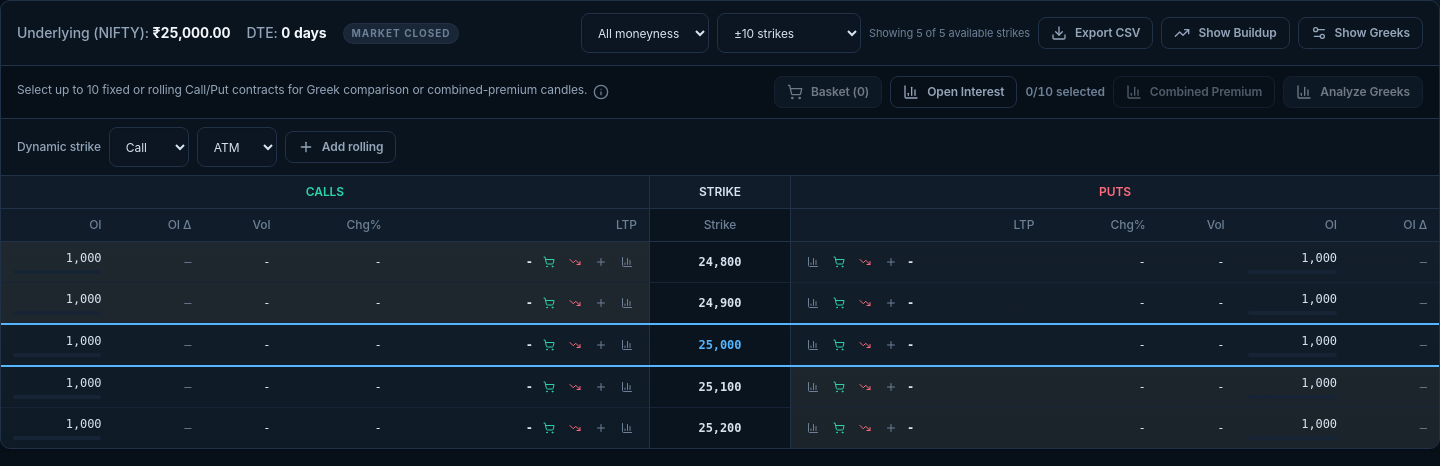
OptionChain — Greek/analysis selection › selecting a contract for analysis updates the selection counter and enables the analysis buttons
Expected: the text "0/10 selected" is shown, top-left (1025, 84), bottom-right (1105, 100)
Expected: the button "Analyze Greeks" is disabled, top-left (1283, 76), bottom-right (1423, 108)
Click the button named "Select NSE:NIFTY27-Aug-202625000CE for Greek analysis". click: (627, 345)
box: top-left (617, 335), bottom-right (637, 355)
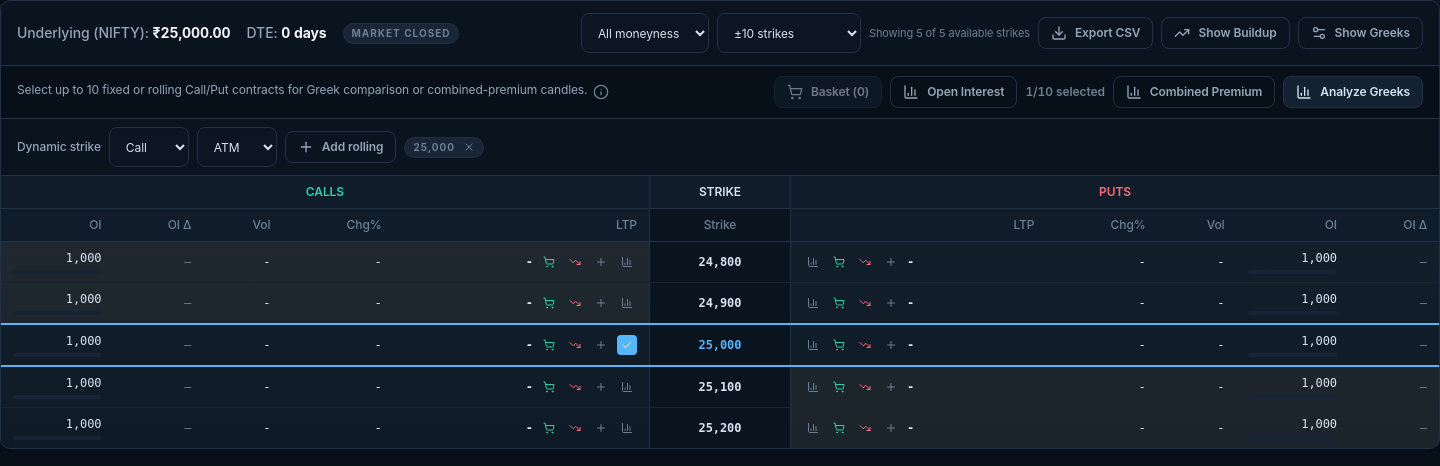
Now the text "1/10 selected" is shown, box top-left (1025, 84), bottom-right (1105, 100)
Now the button "Analyze Greeks" is enabled, box top-left (1283, 76), bottom-right (1423, 108)
Now the button "Combined Premium" is enabled, box top-left (1113, 76), bottom-right (1275, 108)
